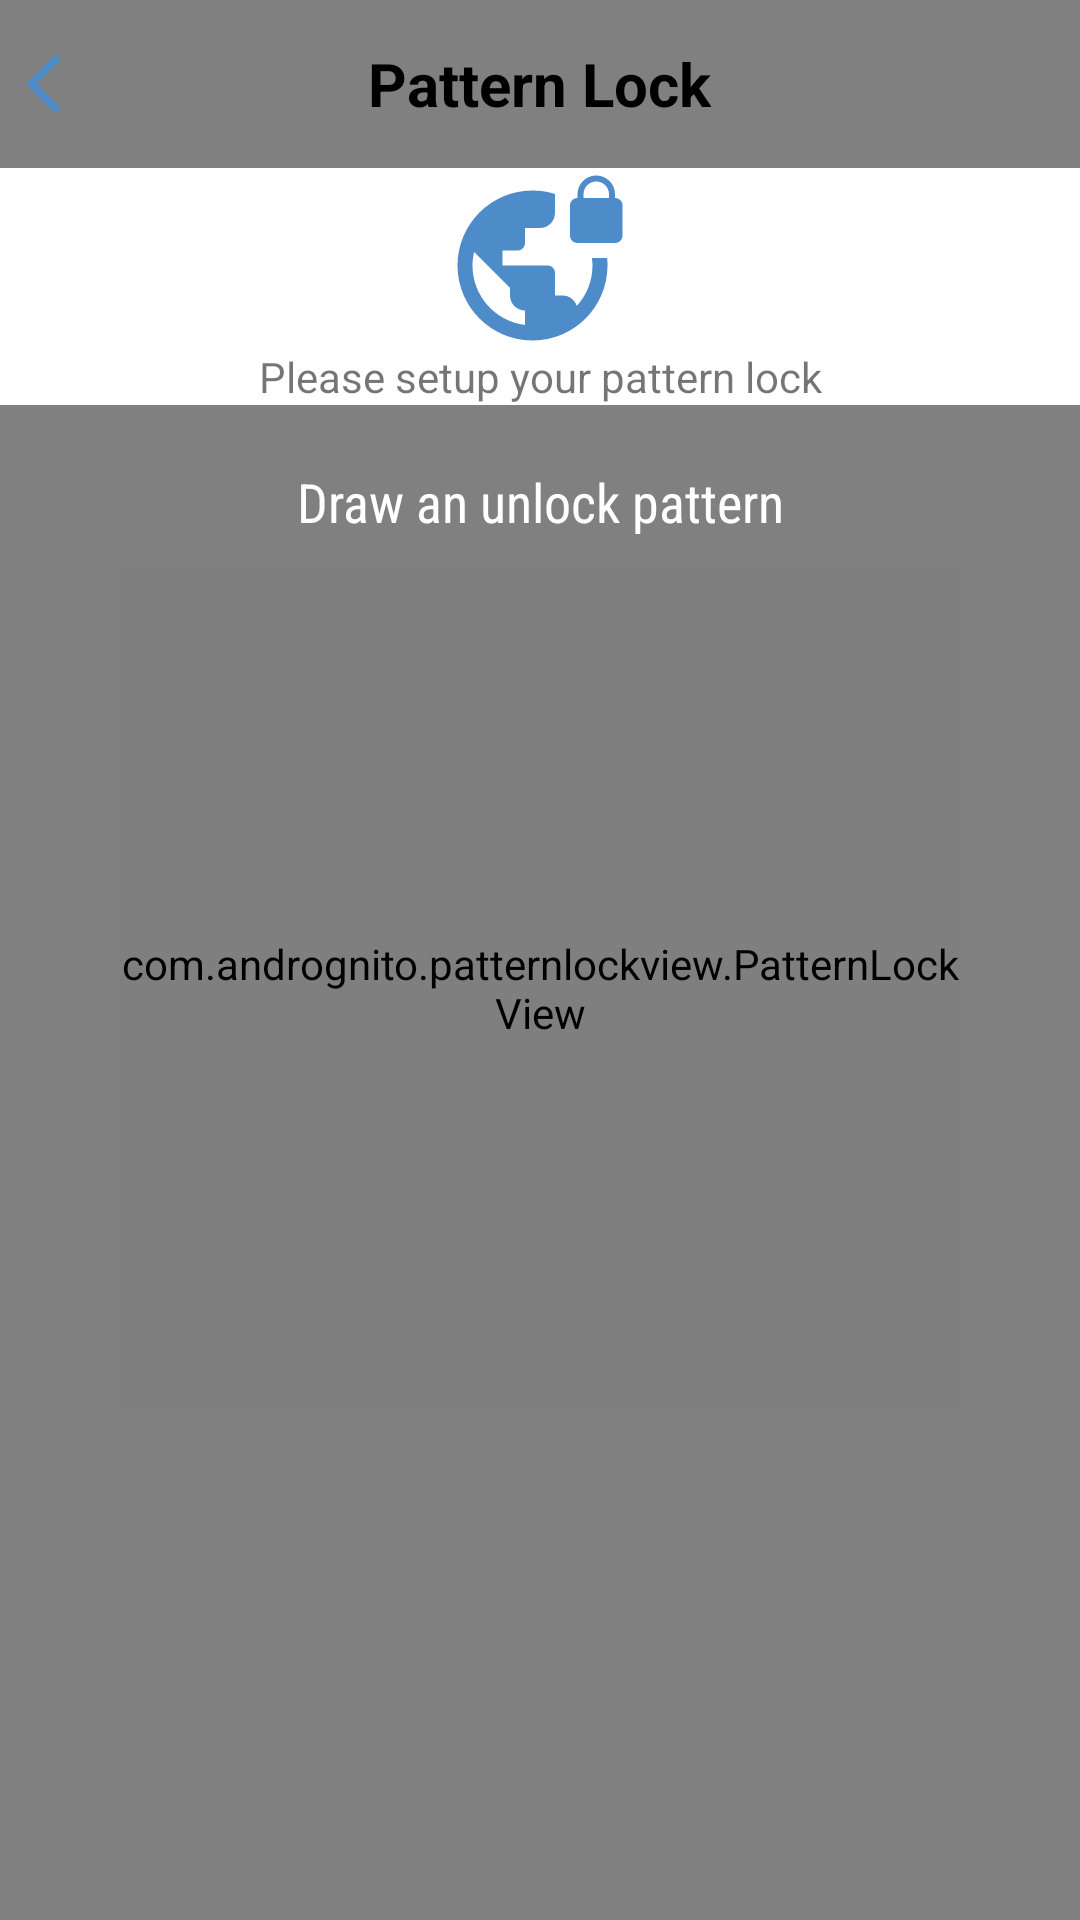

Icon bounding boxes for this 1080px×1920px phone screenshot, format (x1, y1, x2, y2):
back: (26, 54, 61, 114)
vpn lock: (457, 175, 623, 341)
